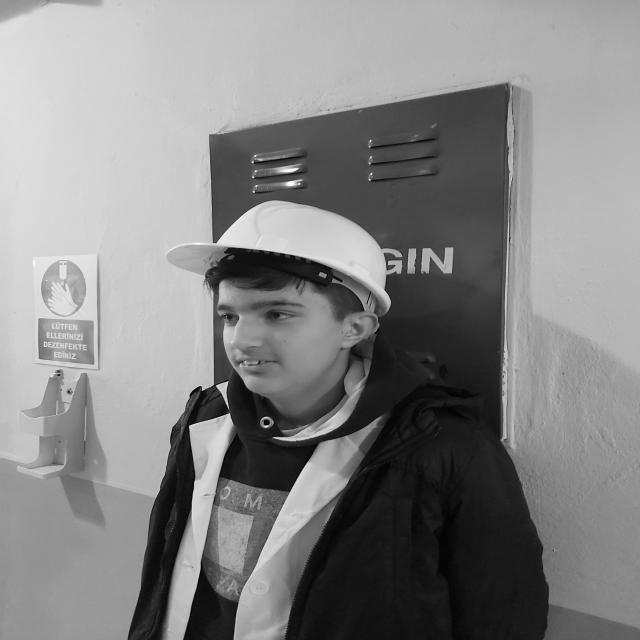construction helmet: (162, 205, 391, 317)
